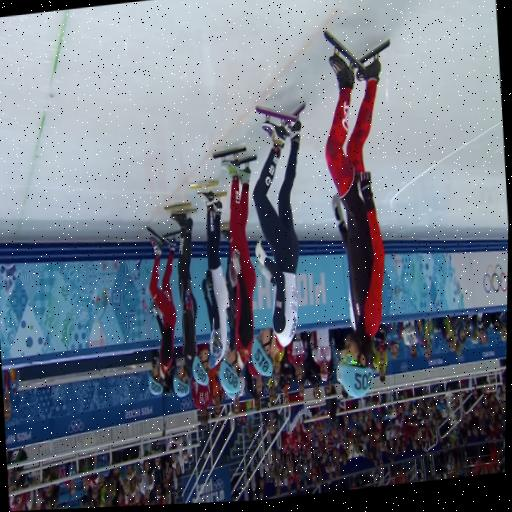Skater: (325, 31, 389, 396), (252, 104, 304, 375), (214, 146, 256, 393), (191, 180, 228, 385), (166, 202, 197, 396), (148, 227, 176, 394)
